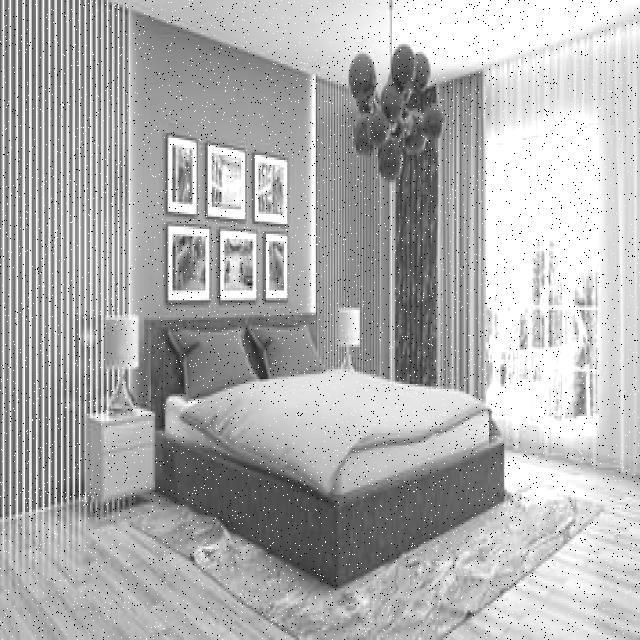bed: (159, 320, 496, 508)
